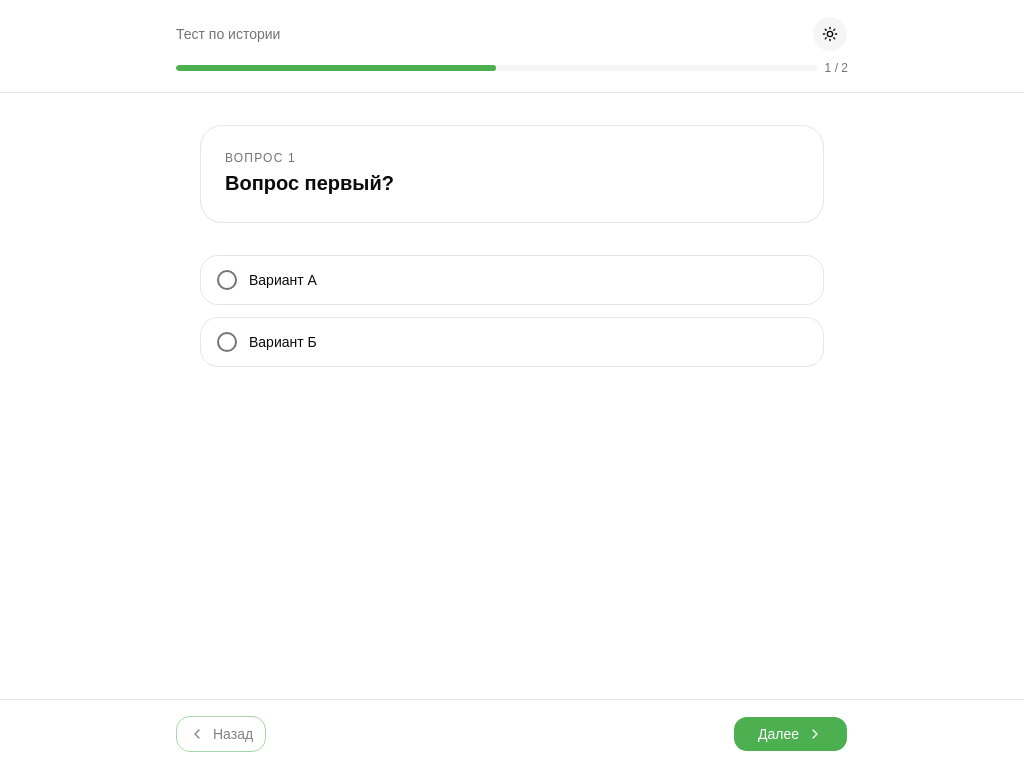
Test: QuizTakingPage › quiz taking UI › shows "Завершить" on the last question after navigation
The image size is (1024, 768).
Click the button "Далее". click: coordinates (790, 734)
box: [733,716,848,752]
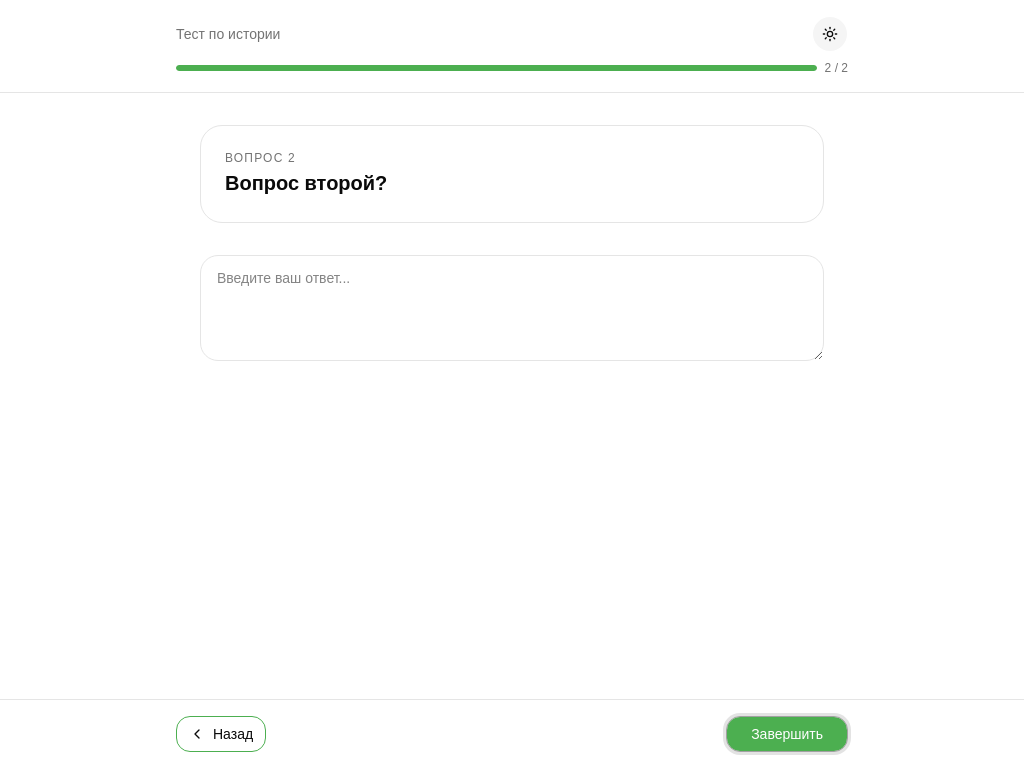
Result: the button "Завершить" is shown at [726,716,848,752]
